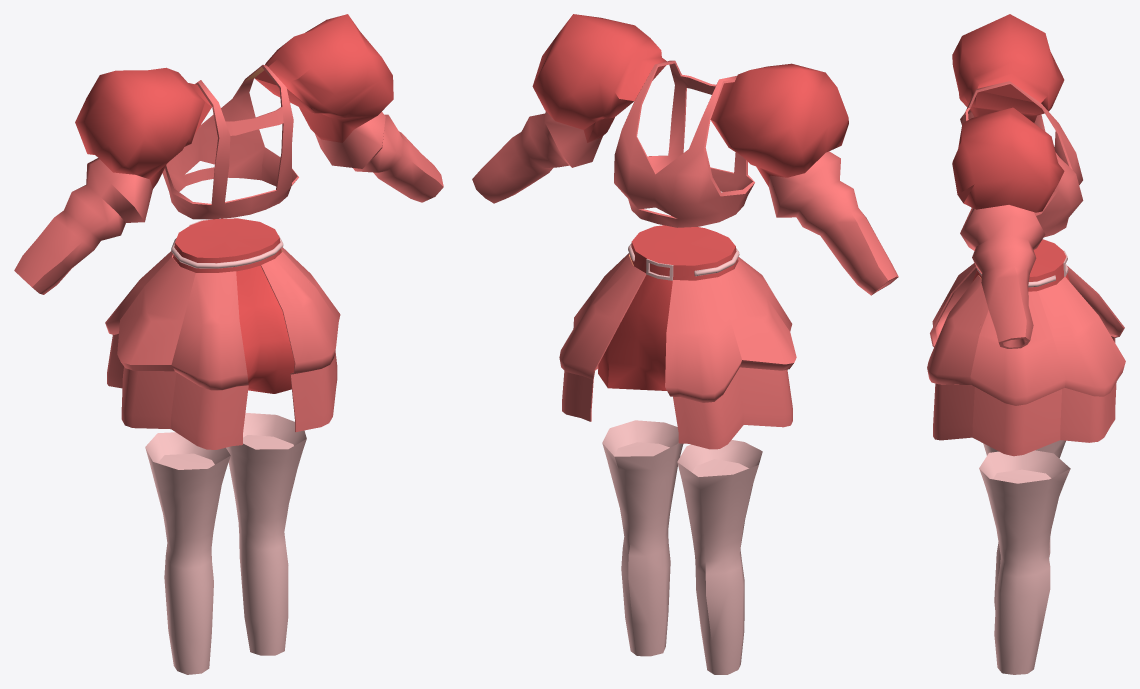
The model's file is StyleDress.fbx.
3 views of the same model, side by side, from view 1: azimuth 30°, elevation 25°; view 2: azimuth 150°, elevation 25°; view 3: azimuth 270°, elevation 25° (orthographic). The views are drawn at different scales.
Visible parts, largest first — view 1: StyleDress; view 2: StyleDress; view 3: StyleDress.
Boxes of the visible parts, x1,y1,x2,y2 form: StyleDress: (14,14,443,674); StyleDress: (472,14,898,674); StyleDress: (927,14,1125,674).
Bounding box in the file's own units: 344 × 483 × 149.
